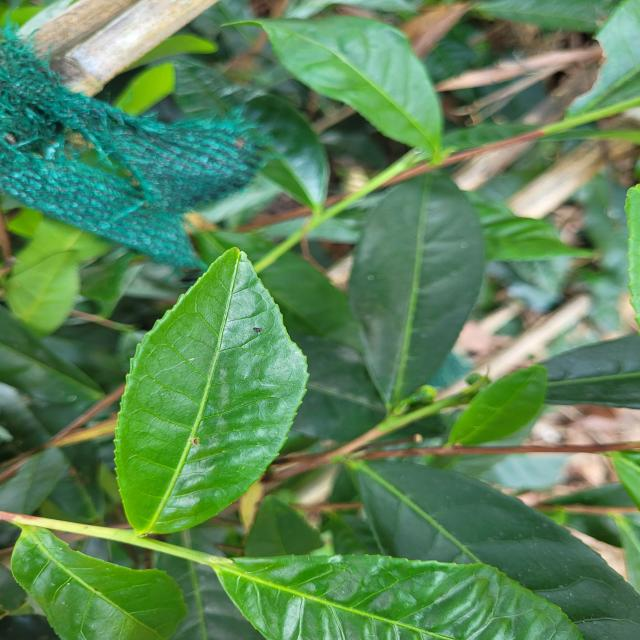Category D(7+ days, Not for Tea): (85, 218, 338, 550)
